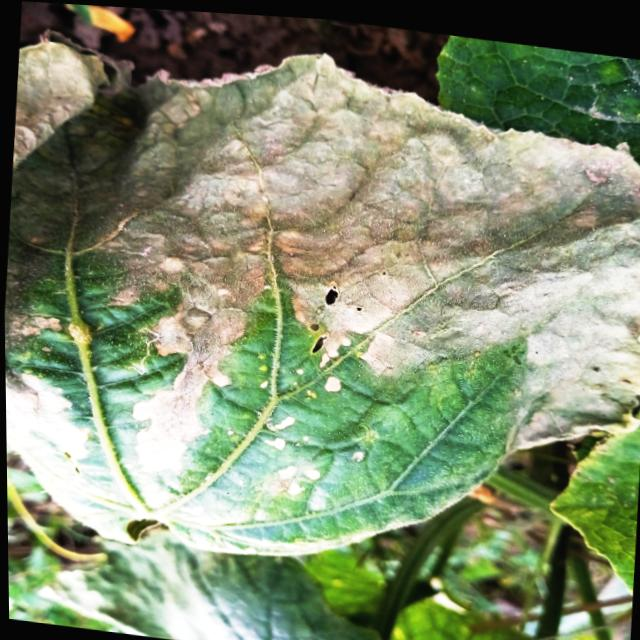Gummy-Stem-Blight: (0, 13, 640, 550)
